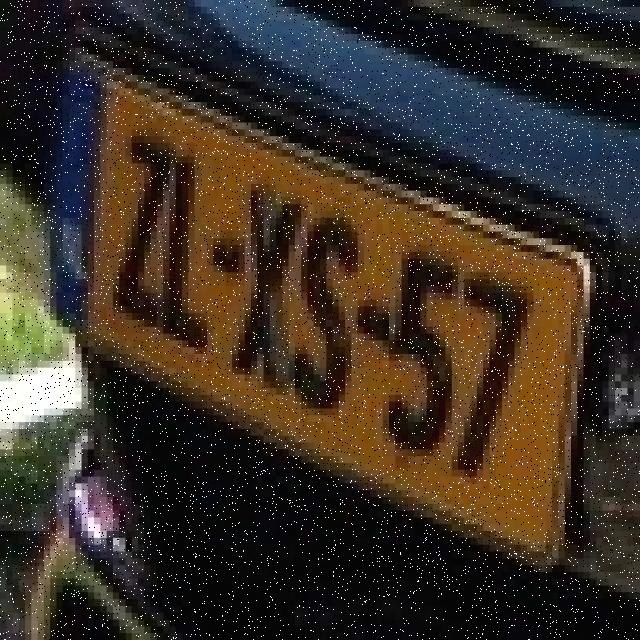licenseplate: (49, 32, 595, 579)
